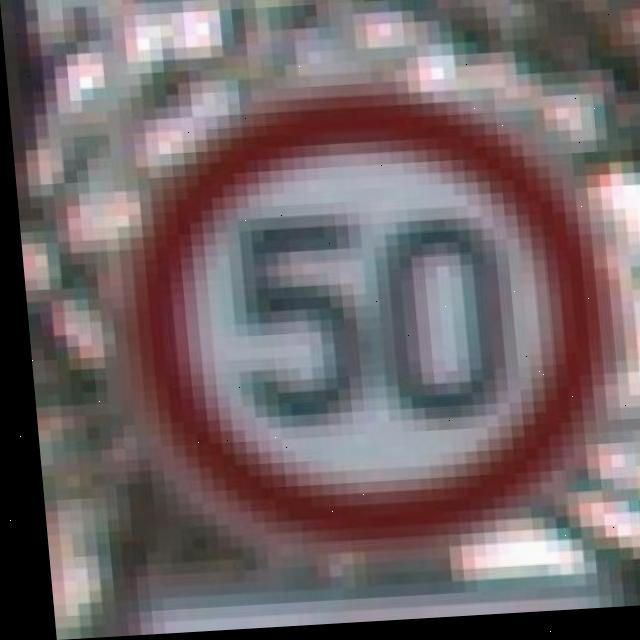Speed limit 50: (117, 88, 606, 557)
